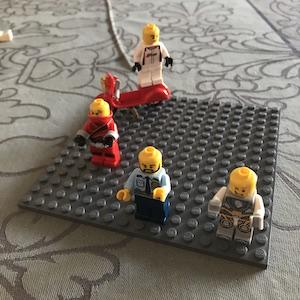Lego: (210, 168, 265, 243), (127, 147, 170, 221), (78, 98, 120, 167), (133, 23, 169, 85)
